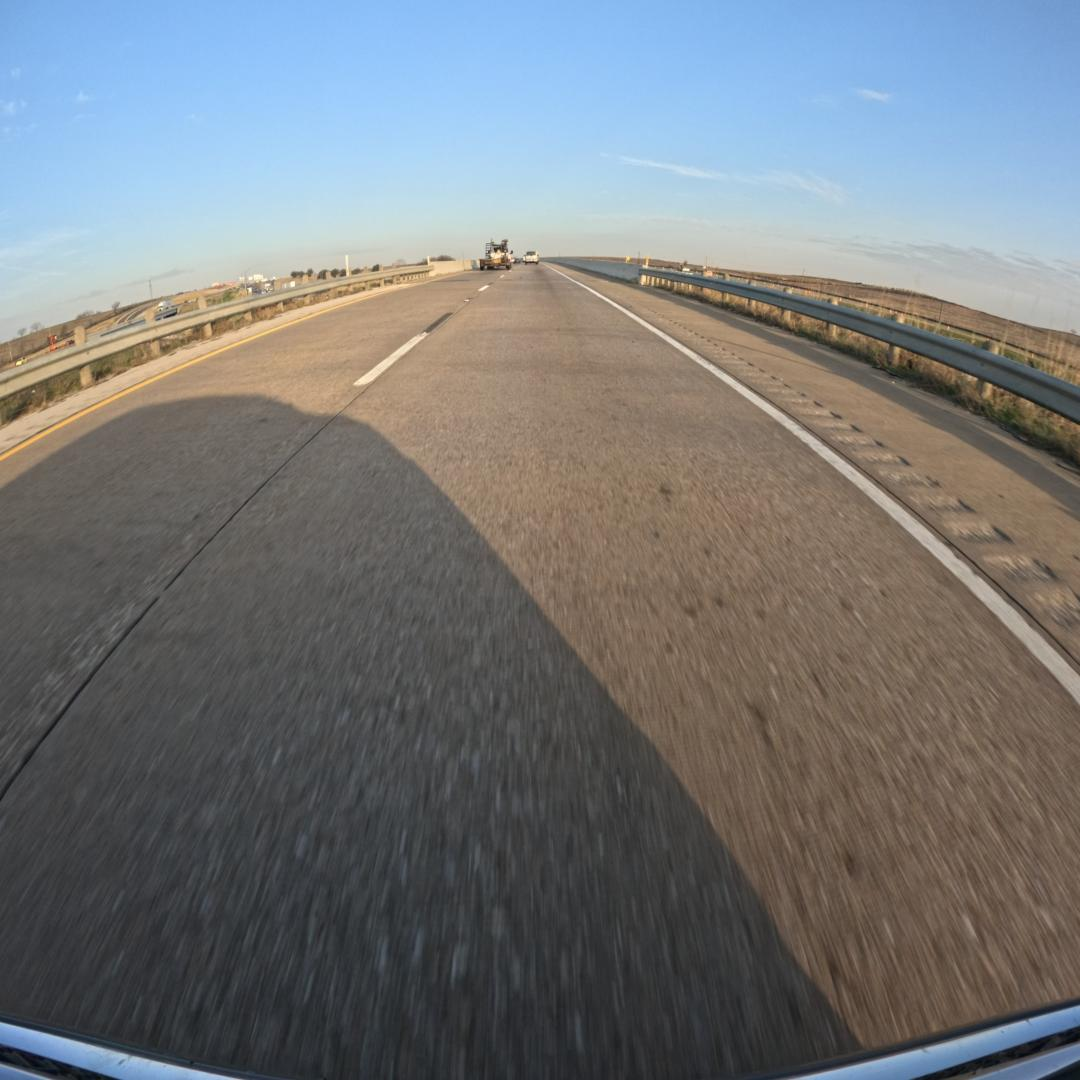lane0: (0, 267, 1080, 1077)
lane1: (0, 271, 508, 801)
